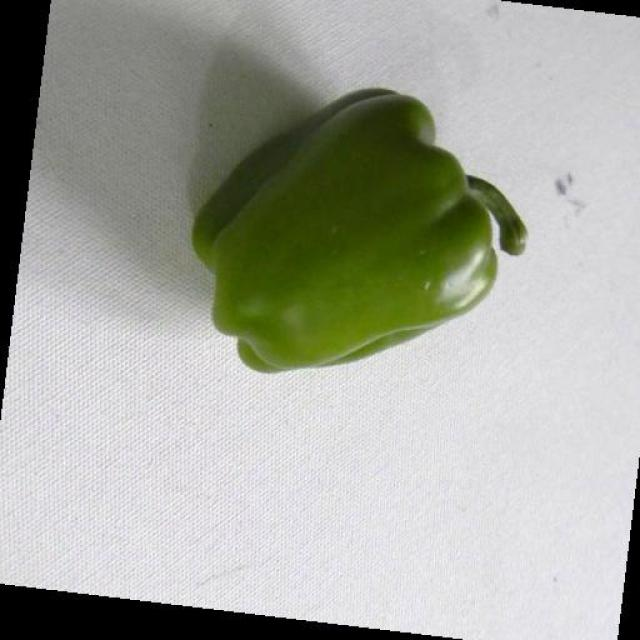Fresh_Capsicum: (213, 83, 529, 378)
